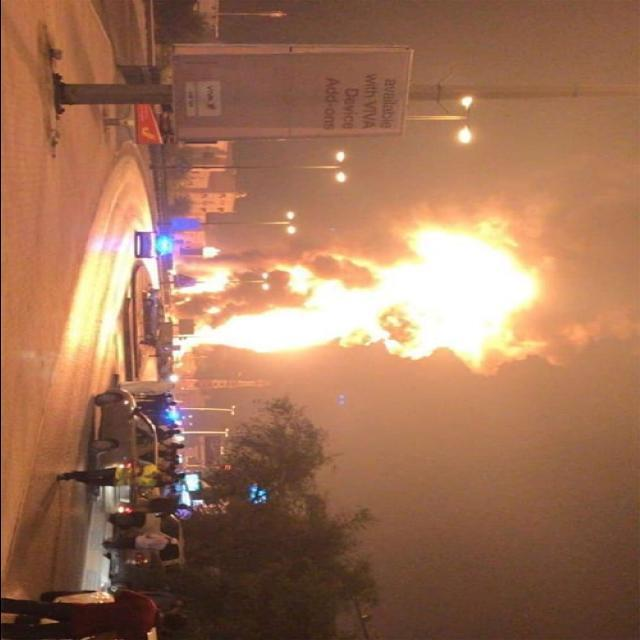Fire: (169, 224, 558, 362)
